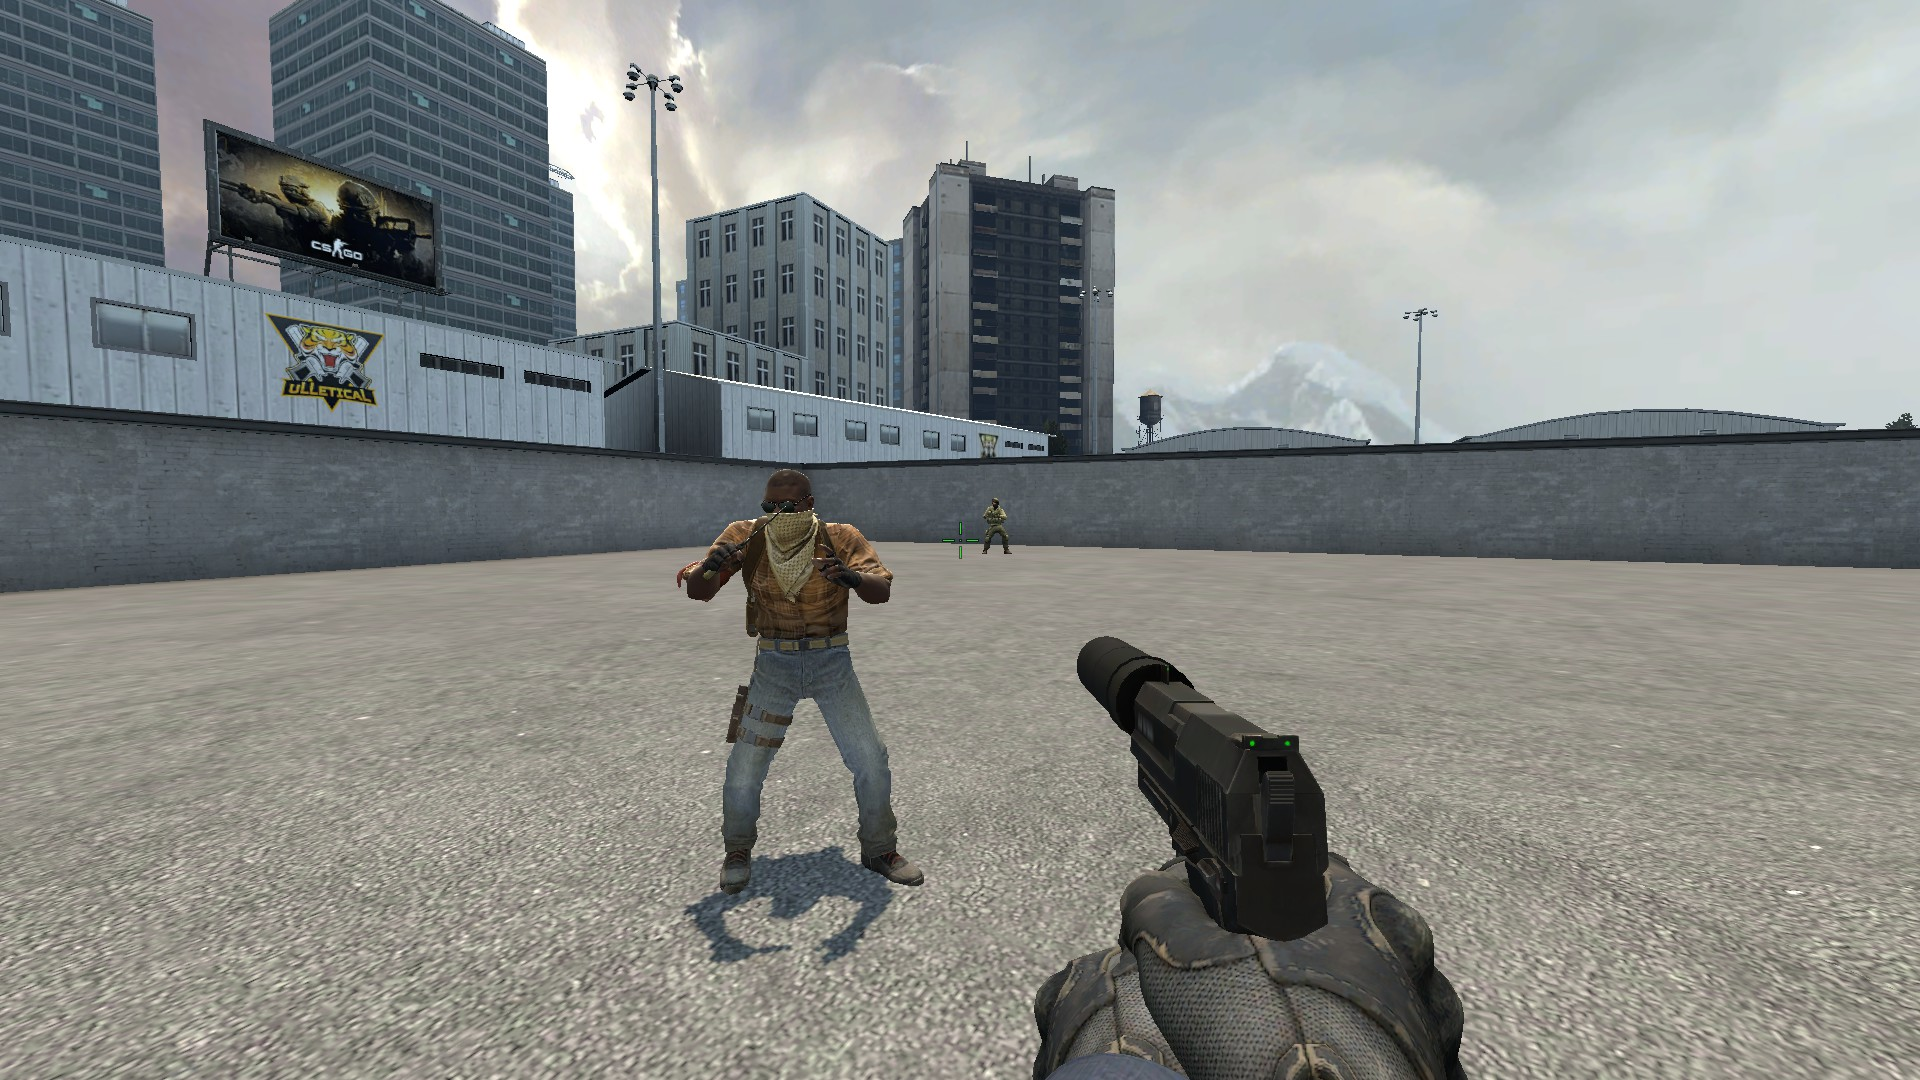tr: (674, 463, 931, 892)
tr head: (754, 464, 822, 557)
